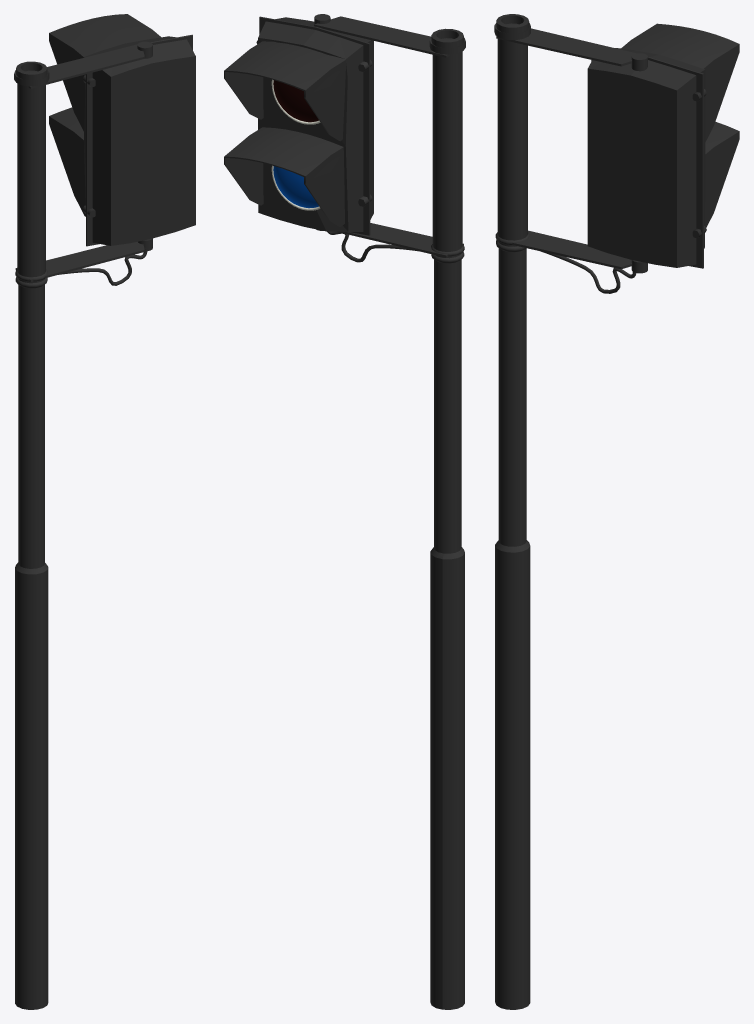
File: trafficlight.fbx
3 views of the same model, side by side, from view 1: azimuth 30°, elevation 25°; view 2: azimuth 150°, elevation 25°; view 3: azimuth 330°, elevation 25° (orthographic). The views are drawn at different scales.
Visible parts, largest first — view 1: polySurface27, polySurface3, polySurface128, polySurface1, polySurface129, polySurface2, polySurface4, polySurface22, polySurface17, polySurface7, polySurface130; view 2: polySurface27, polySurface128, polySurface129, polySurface2, polySurface6, pSphere1 (×2), polySurface22, polySurface17, polySurface1; view 3: polySurface27, polySurface3, polySurface5, polySurface128, polySurface129, polySurface2, polySurface4, polySurface22, polySurface17, polySurface130.
Boxes of the visible parts, x1=… form: polySurface27: x1=14, y1=61, x2=49, y2=1009; polySurface3: x1=111, y1=56, x2=195, y2=245; polySurface128: x1=49, y1=14, x2=160, y2=131; polySurface1: x1=87, y1=70, x2=110, y2=246; polySurface129: x1=49, y1=107, x2=85, y2=216; polySurface2: x1=83, y1=34, x2=195, y2=204; polySurface4: x1=111, y1=70, x2=129, y2=242; polySurface22: x1=28, y1=44, x2=144, y2=88; polySurface17: x1=15, y1=241, x2=144, y2=281; polySurface7: x1=86, y1=72, x2=92, y2=246; polySurface130: x1=58, y1=248, x2=147, y2=285; polySurface27: x1=429, y1=28, x2=465, y2=1009; polySurface128: x1=224, y1=41, x2=345, y2=141; polySurface129: x1=224, y1=127, x2=344, y2=226; polySurface2: x1=258, y1=16, x2=370, y2=235; polySurface6: x1=258, y1=38, x2=348, y2=231; pSphere1 (×2): x1=273, y1=80, x2=318, y2=208; polySurface22: x1=314, y1=16, x2=449, y2=57; polySurface17: x1=347, y1=223, x2=463, y2=257; polySurface1: x1=349, y1=40, x2=373, y2=235; polySurface27: x1=494, y1=14, x2=530, y2=1009; polySurface3: x1=587, y1=71, x2=676, y2=267; polySurface5: x1=677, y1=74, x2=704, y2=268; polySurface128: x1=621, y1=23, x2=739, y2=141; polySurface129: x1=705, y1=121, x2=739, y2=227; polySurface2: x1=588, y1=48, x2=704, y2=90; polySurface4: x1=587, y1=68, x2=607, y2=244; polySurface22: x1=496, y1=28, x2=648, y2=66; polySurface17: x1=496, y1=230, x2=631, y2=269; polySurface130: x1=541, y1=251, x2=636, y2=293.
Bounding box in the file's own units: 19.6 × 93.83 × 12.48.
3 materials, 2 textured.
